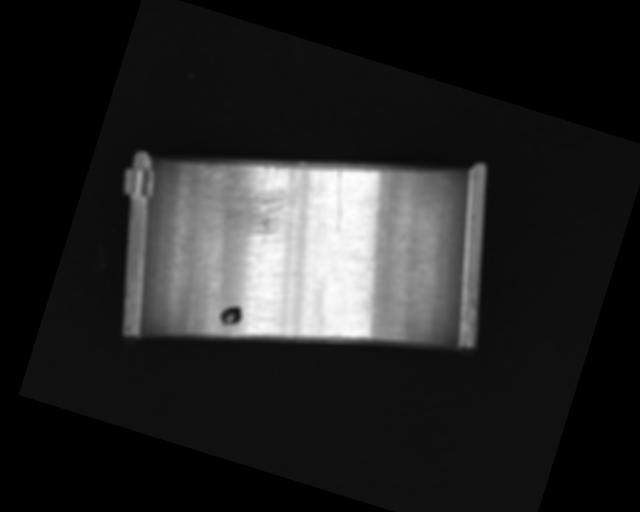blot: (217, 301, 245, 329)
nick: (399, 249, 467, 347), (321, 170, 358, 235)
scratch: (183, 136, 310, 251)
